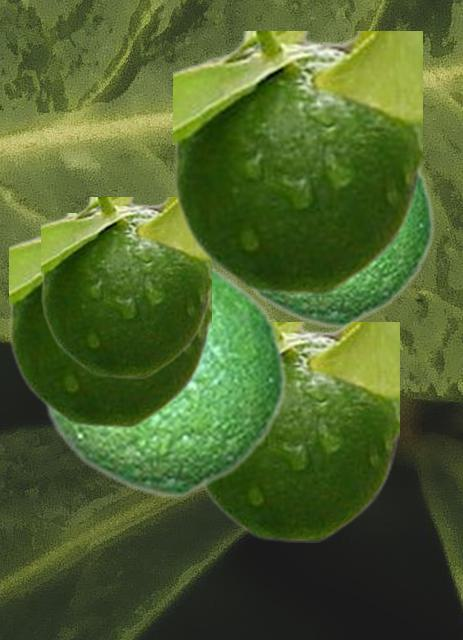dalandan: (173, 31, 421, 294), (38, 264, 286, 498), (201, 322, 398, 541), (9, 213, 210, 427), (41, 197, 210, 377), (246, 167, 434, 328)
